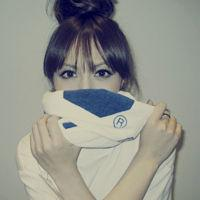face_mask: (53, 37, 122, 130)
